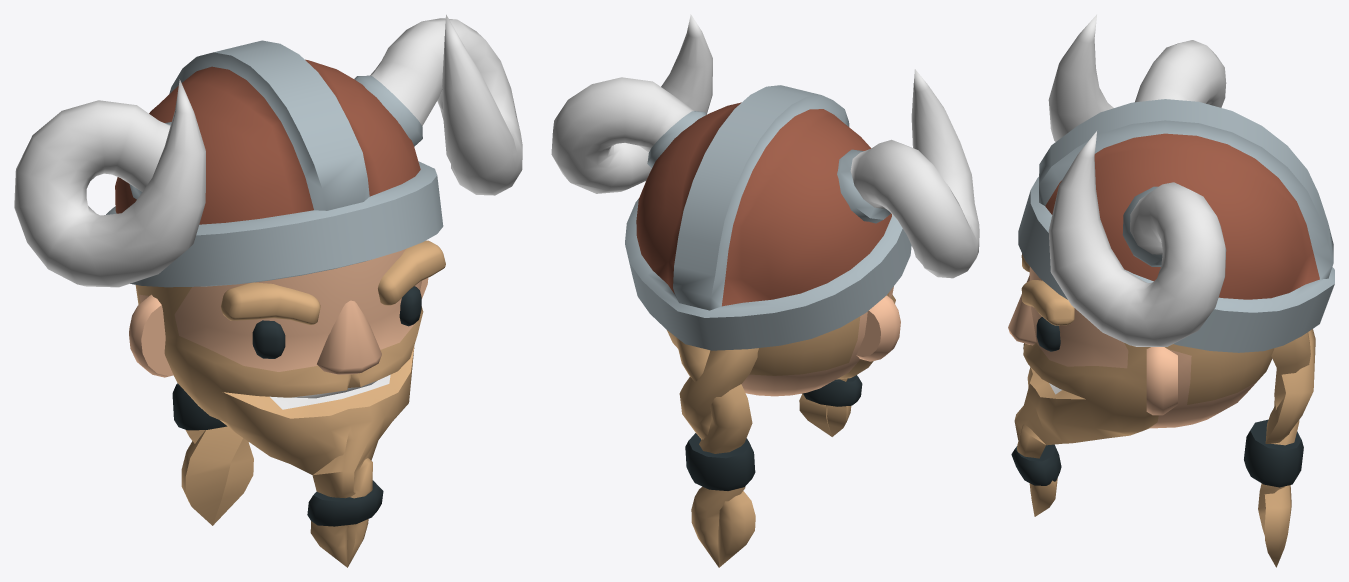
File: vikingMaleHead_helmet.gltf.glb
The picture shows the model from 3 angles, left to right: view 1: azimuth 30°, elevation 25°; view 2: azimuth 150°, elevation 25°; view 3: azimuth 270°, elevation 25°; orthographic projection. The views are drawn at different scales.
Visible parts, largest first — view 1: vikingMaleHead_helmet; view 2: vikingMaleHead_helmet; view 3: vikingMaleHead_helmet.
Part boxes in pixels (x1,y1,x2,y2): vikingMaleHead_helmet: (14, 14, 522, 567); vikingMaleHead_helmet: (551, 14, 979, 567); vikingMaleHead_helmet: (1008, 14, 1334, 567).
Size of the model in its own units: 1.95 by 2.11 by 1.26.
